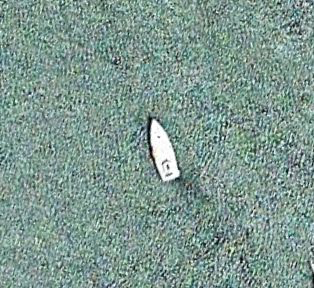boat: (146, 116, 182, 183)
